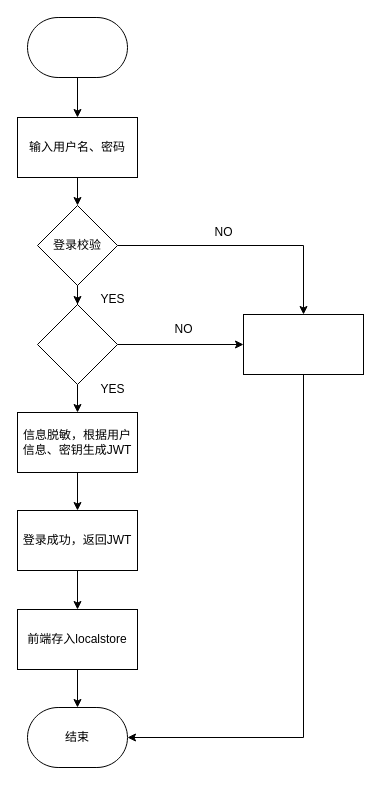
Image size: 381x785. Some labels were removed from this diagram. The centre of each missing label's shape, as x and y in pixels:
开始: [77,47]
是否有此用户: [77,344]
登录失败，返回错误信息: [303,344]
